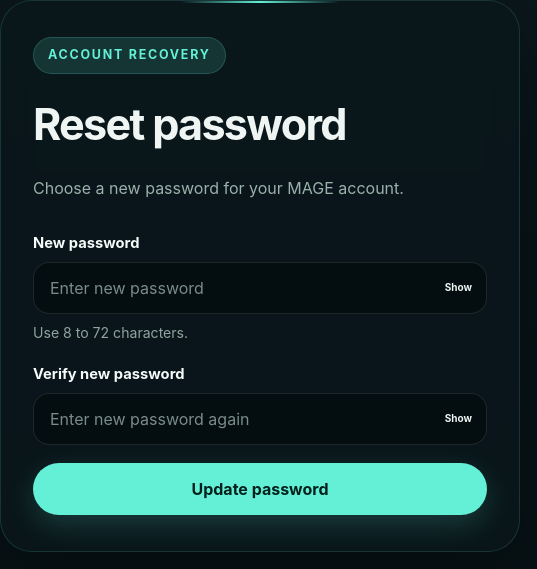
Test: ResetPasswordPage › submits a valid token and new password
In the password field labelled "New password": [260, 288] box [33,262,487,314], type "new-password"
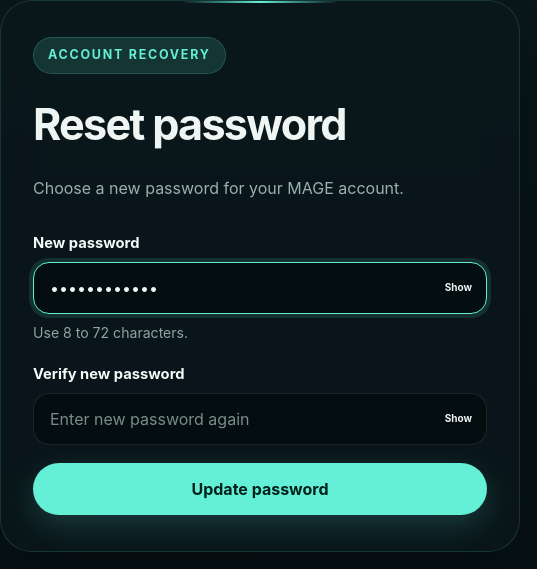
In the password field labelled "Verify new password": [260, 419] box [33,393,487,445], type "new-password"
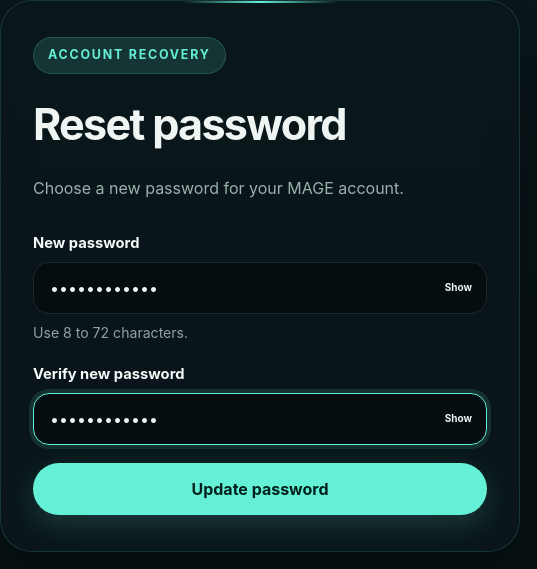
Click the button "Update password": [260, 489] box [33,463,487,515]
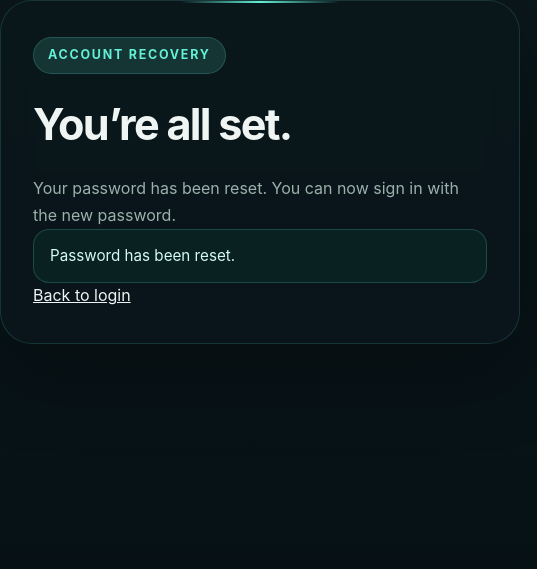
Expected: the text "Password has been reset." is shown, [33,229,487,283]
Expected: the link "Back to login" is shown, [33,285,131,305]
